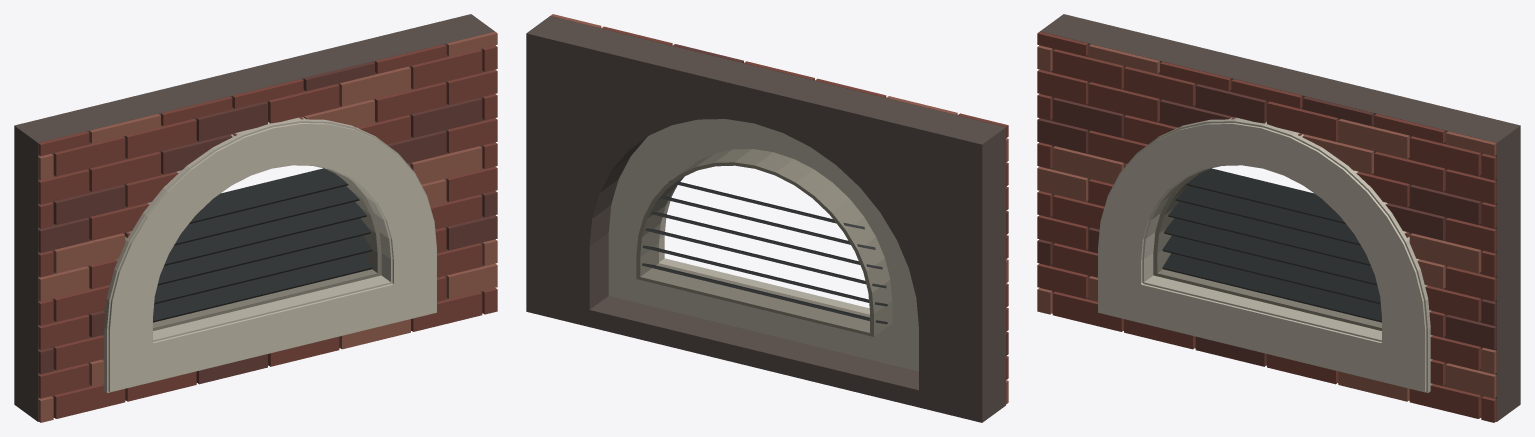
Rendered from xuhui-wuyuan-251-arched-gable-vent-lod.glb.
The picture shows the model from 3 angles, left to right: view 1: azimuth 30°, elevation 25°; view 2: azimuth 150°, elevation 25°; view 3: azimuth 330°, elevation 25°; orthographic projection.
Parts seen in each view (by area): view 1: 五原路251号花园住宅山墙拱框百叶窗; view 2: 五原路251号花园住宅山墙拱框百叶窗; view 3: 五原路251号花园住宅山墙拱框百叶窗.
Part boxes in pixels (bbox=[...]): 五原路251号花园住宅山墙拱框百叶窗: bbox=[14, 14, 497, 422]; 五原路251号花园住宅山墙拱框百叶窗: bbox=[526, 14, 1008, 422]; 五原路251号花园住宅山墙拱框百叶窗: bbox=[1037, 14, 1520, 422].
Size of the model in its own units: 1.44 by 0.84 by 0.167.
